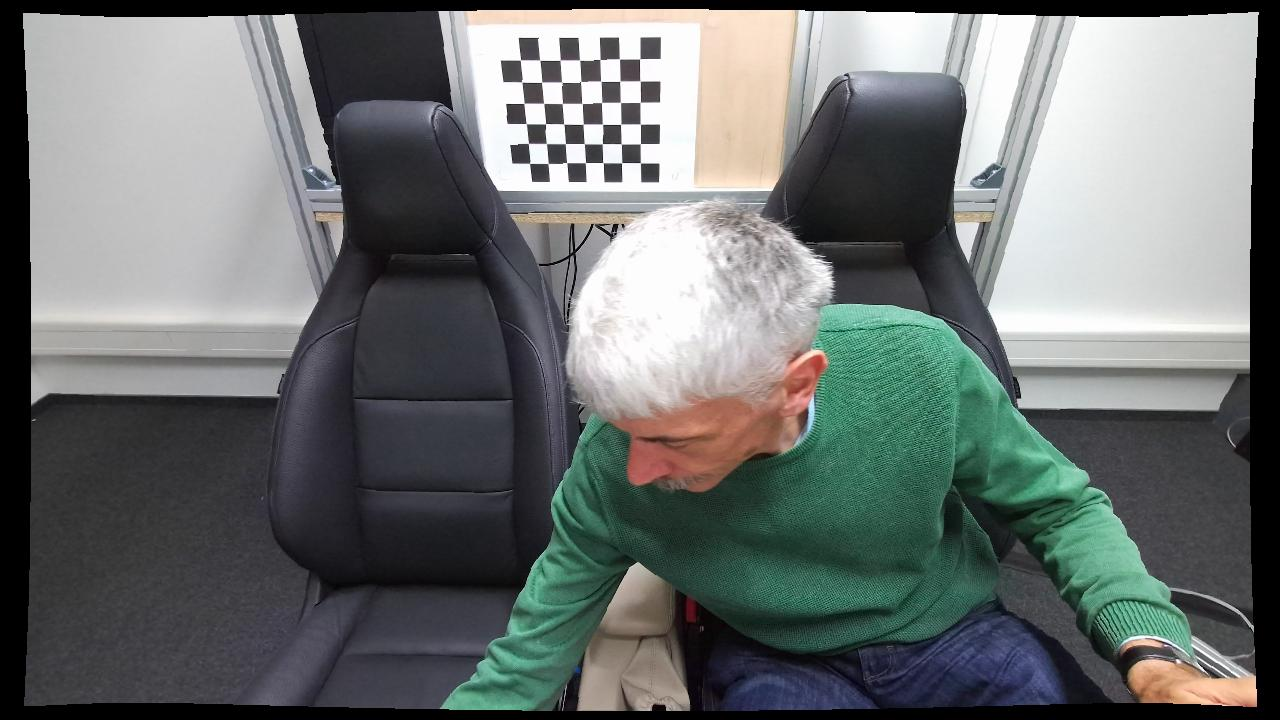Distracted: (438, 196, 1191, 711)
